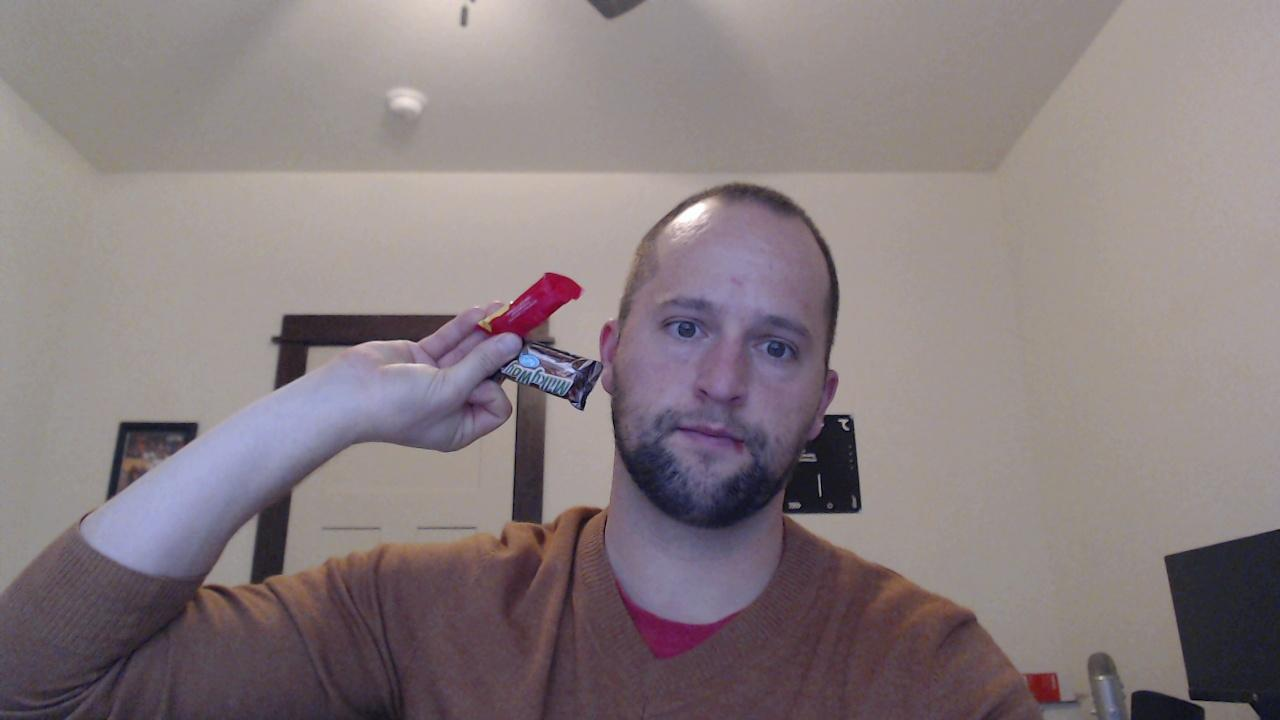milky_way: (490, 340, 605, 412)
starburst: (477, 270, 584, 341)
